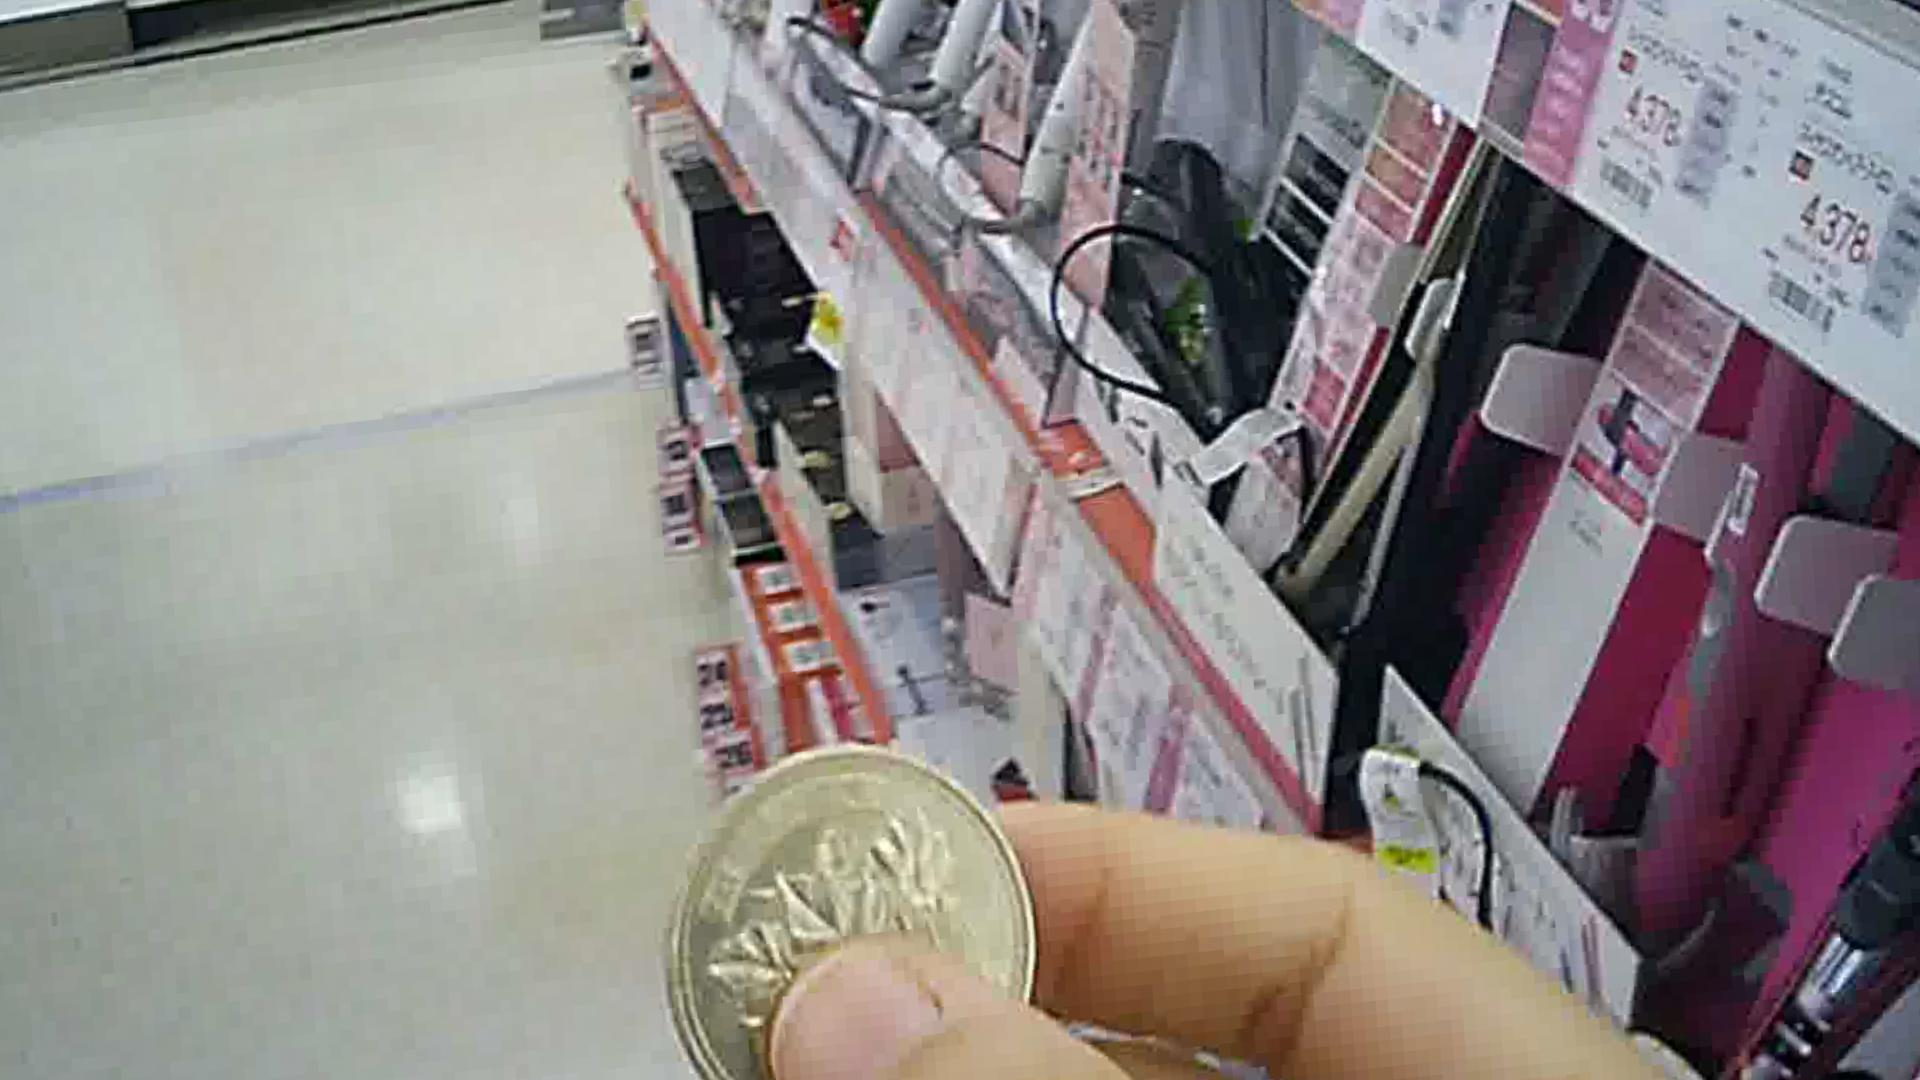500 Yen: (647, 724, 1091, 1079)
